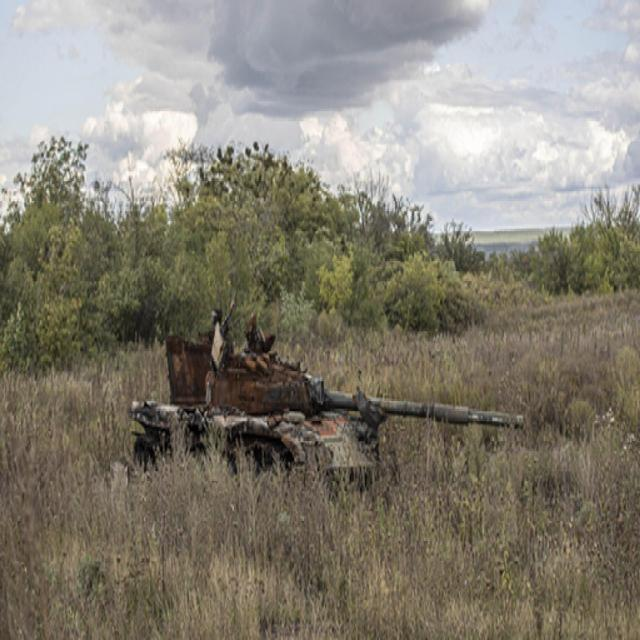TANK: (125, 304, 524, 516)
